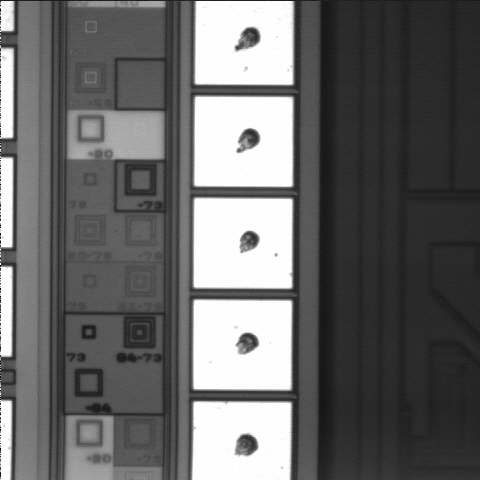pad: (194, 97, 293, 187), (193, 300, 292, 390), (194, 198, 292, 288)
